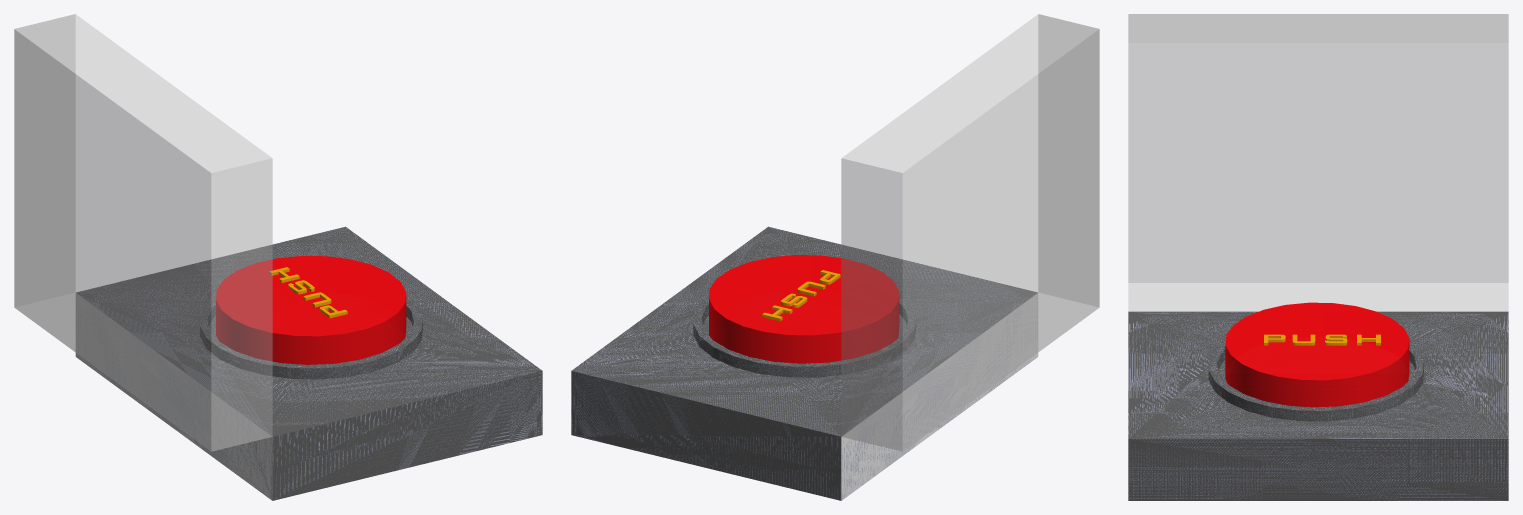
The model's file is ButtonRed.dae.
3 renders of one model, left to right at view 1: azimuth 30°, elevation 25°; view 2: azimuth 150°, elevation 25°; view 3: azimuth 270°, elevation 25°, orthographic. The views are drawn at different scales.
Visible parts, largest first — view 1: SketchUp (×5); view 2: SketchUp (×5); view 3: SketchUp (×4).
Part boxes in pixels (x1,y1,x2,y2): SketchUp (×5): (14, 14, 542, 500); SketchUp (×5): (571, 14, 1099, 500); SketchUp (×4): (1128, 14, 1508, 500).
Bounding box in the file's own units: 125 × 129 × 124.
